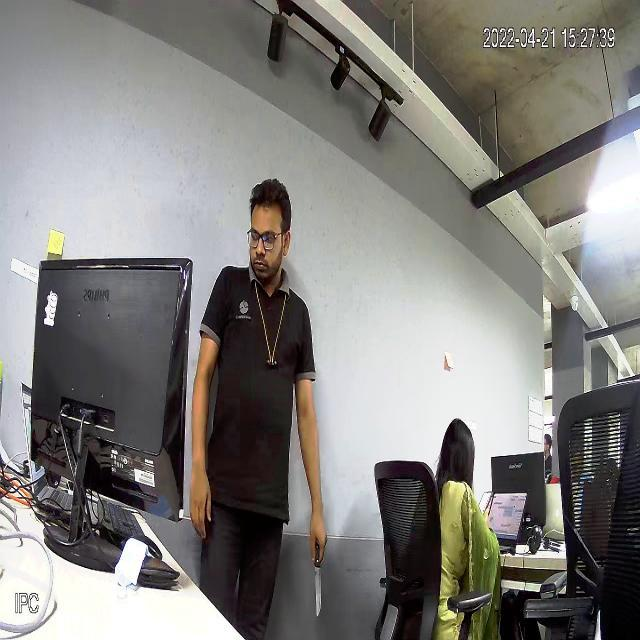Knife: (309, 548, 343, 622)
